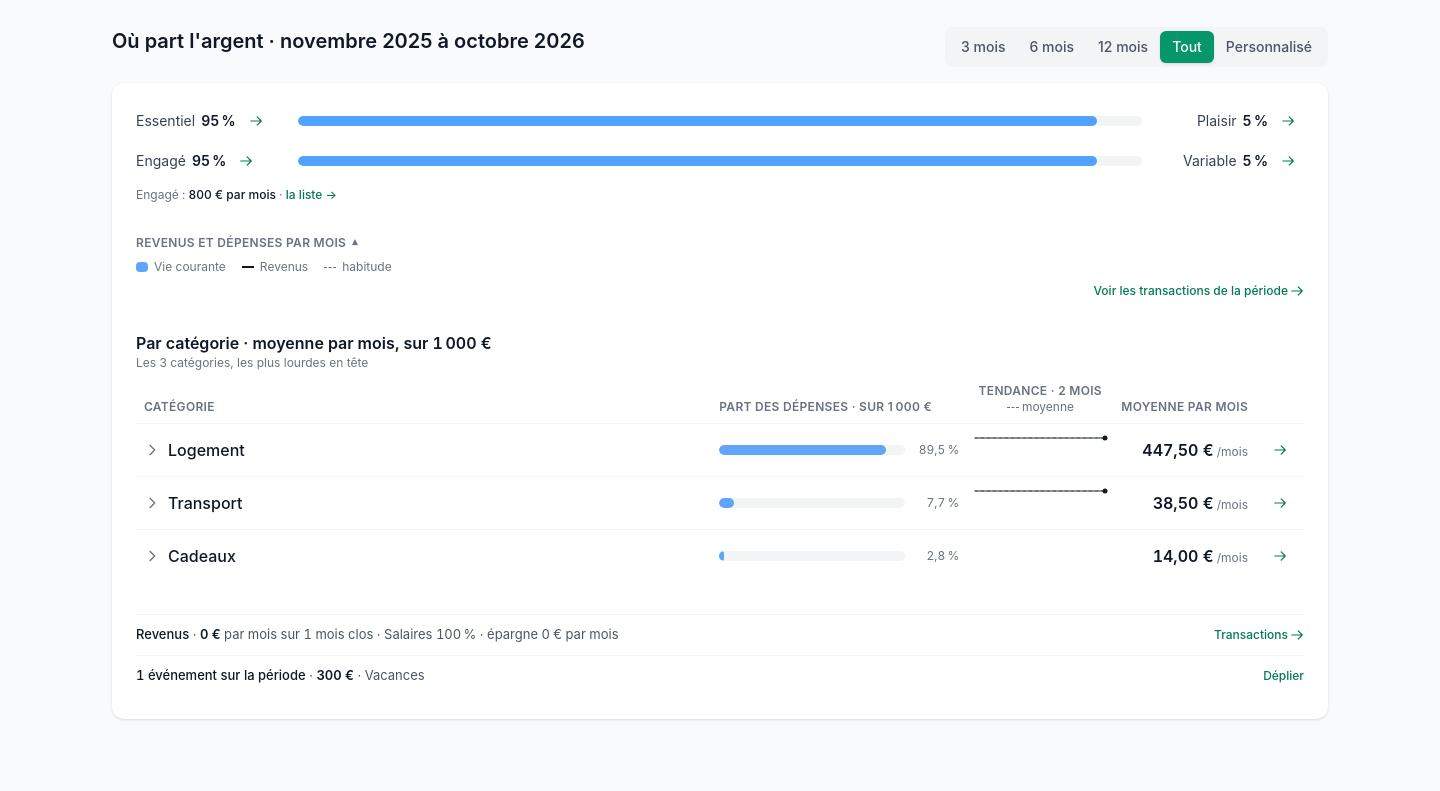
Test: DashboardPage › Où part l'argent › the unfolded lines › opens the events in place, under their line
(page scrolled)
Click the button with test id "events-toggle" at (1284, 676), box left=1263, top=668, right=1304, bottom=684
(page scrolled)
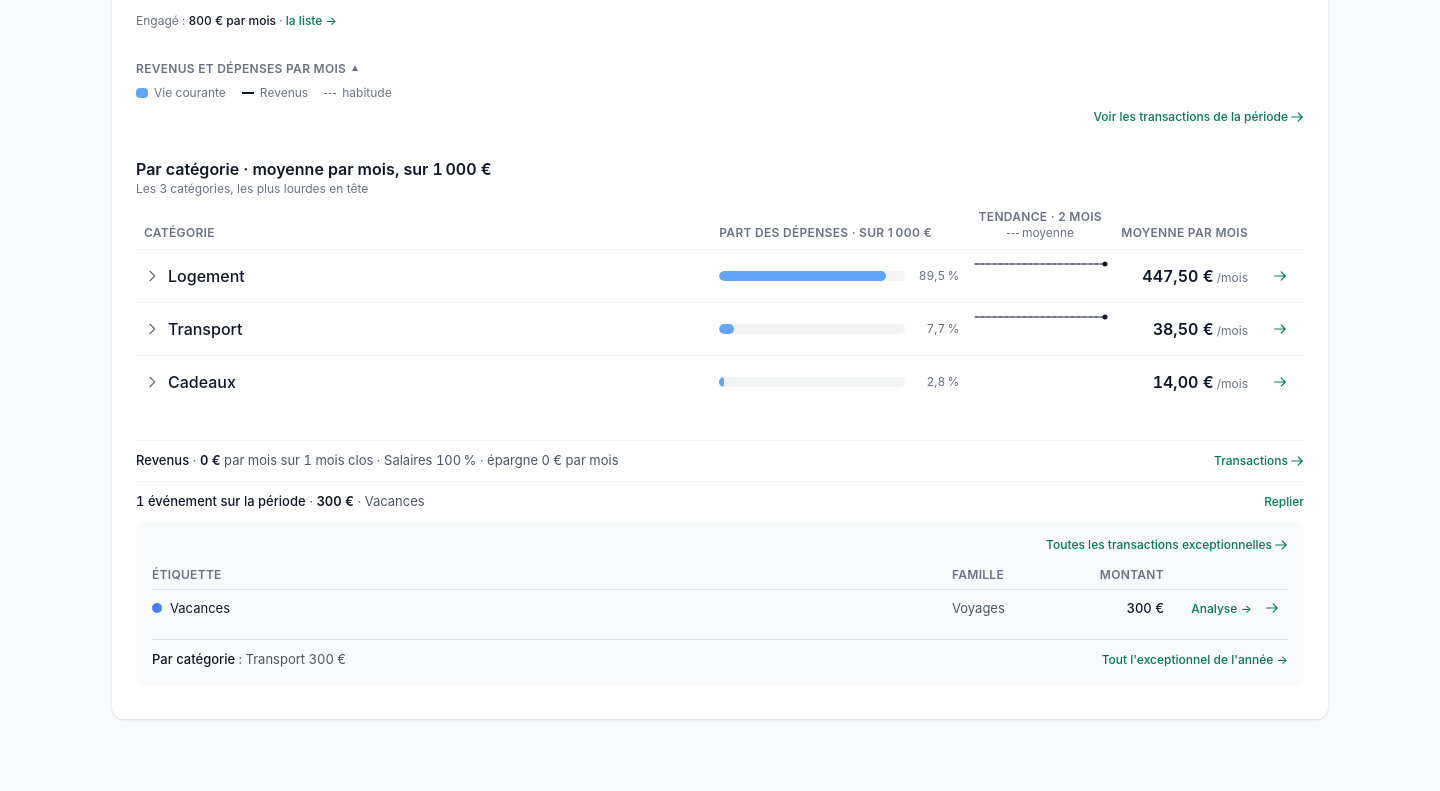
Now the row with test id "events-panel-row-tag-1" is shown, box left=152, top=590, right=1288, bottom=626
Now the element with test id "events-panel-by-category" shows "Transport 300 €", box left=235, top=650, right=346, bottom=666
